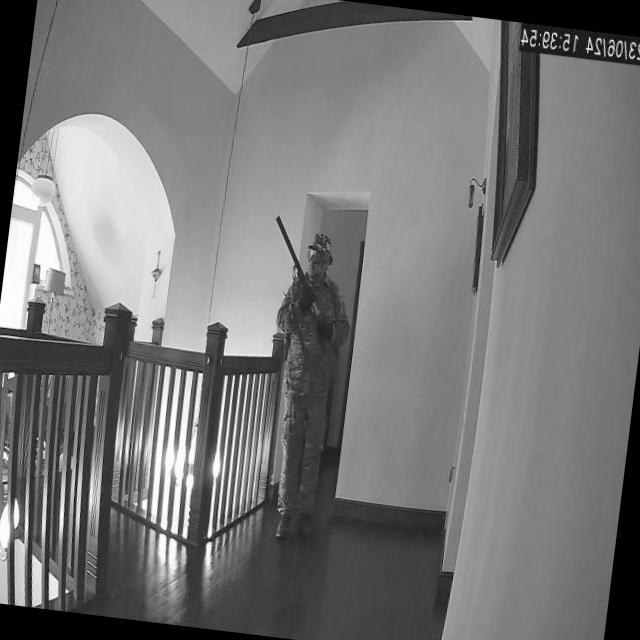gun: (258, 209, 356, 356)
person with a gun: (235, 210, 360, 544)
